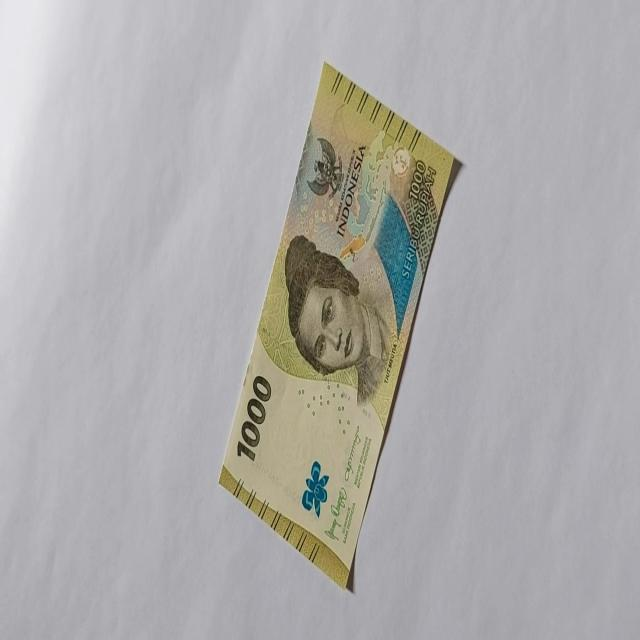seribu rupiah kertas: (217, 60, 464, 590)
